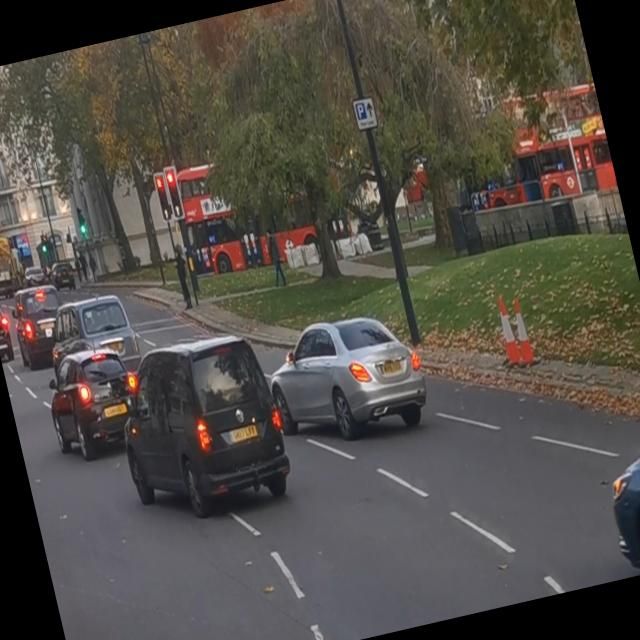Vehicle: (103, 322, 300, 534), (259, 297, 436, 447), (37, 335, 155, 465), (34, 282, 154, 390), (5, 276, 80, 374), (0, 289, 16, 364)
